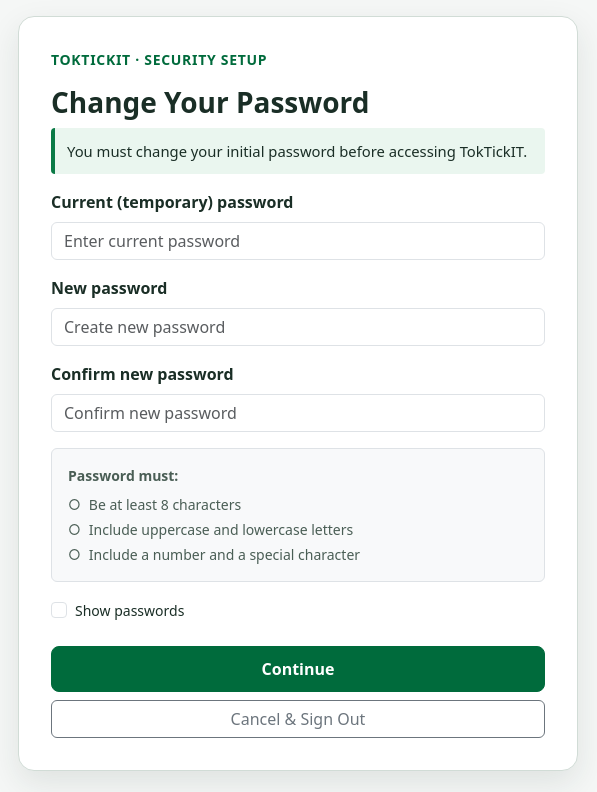
Scenario: ChangePassword Component (Work Item 3) › validates that new password meets complexity rules
The width and height of the screenshot is (597, 792).
Type "Initial123!" into the password field labelled "Current (temporary) password" at (298, 241), box [51, 222, 545, 260]
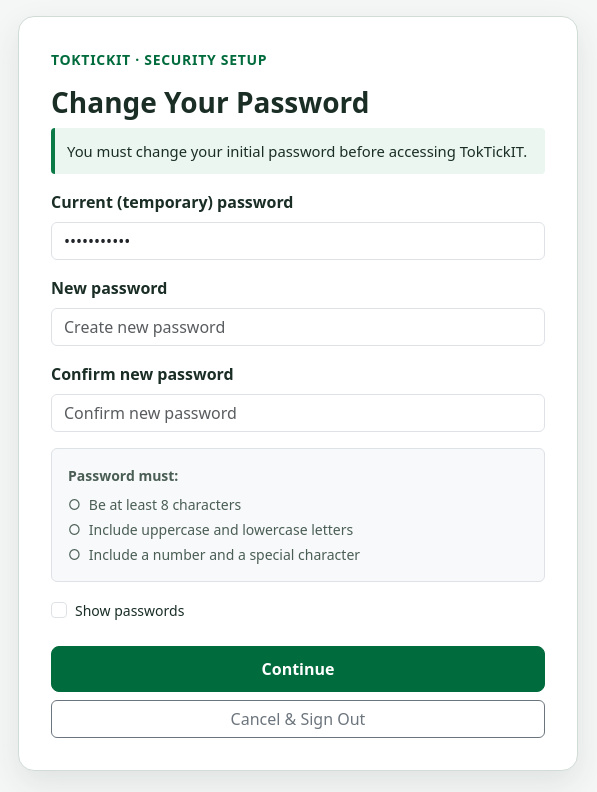
Type "weak" into the password field labelled "New password" at (298, 327), box [51, 308, 545, 346]
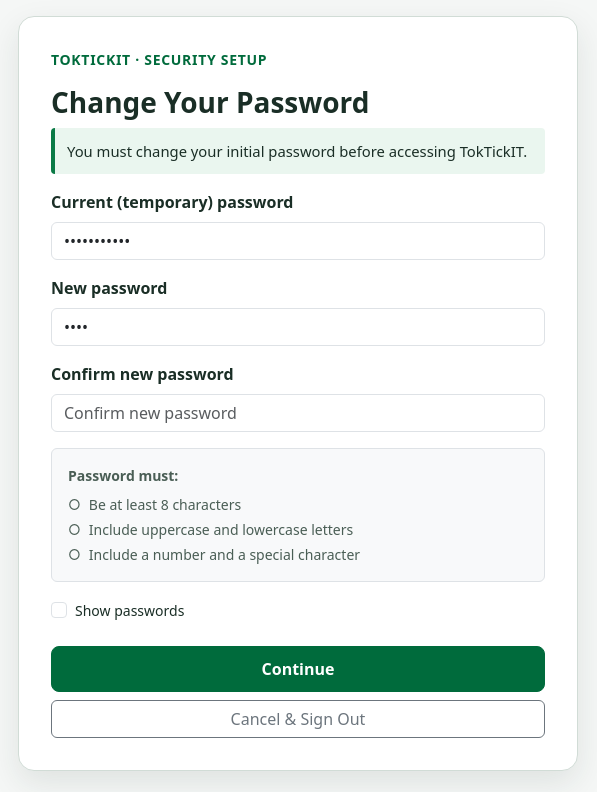
Type "weak" into the password field labelled "Confirm new password" at (298, 413), box [51, 394, 545, 432]
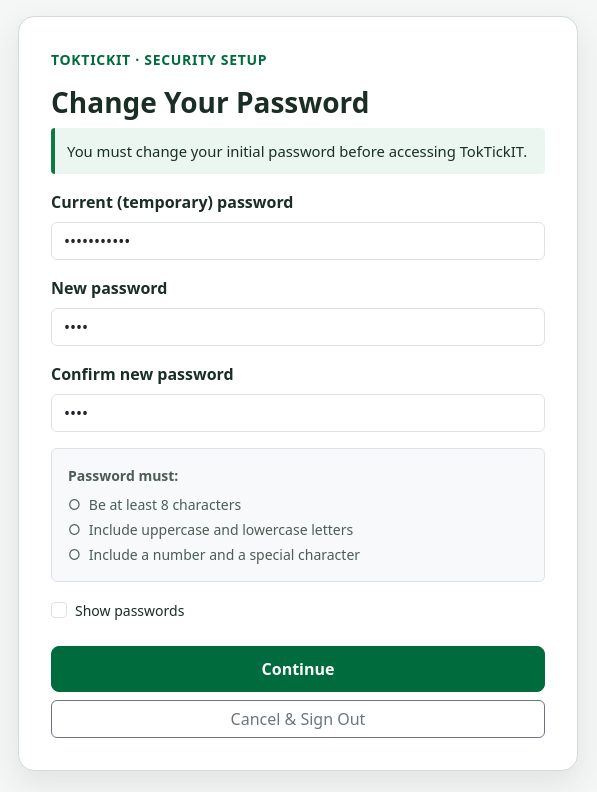
Click the button "Continue" at (298, 669), box [51, 646, 545, 692]
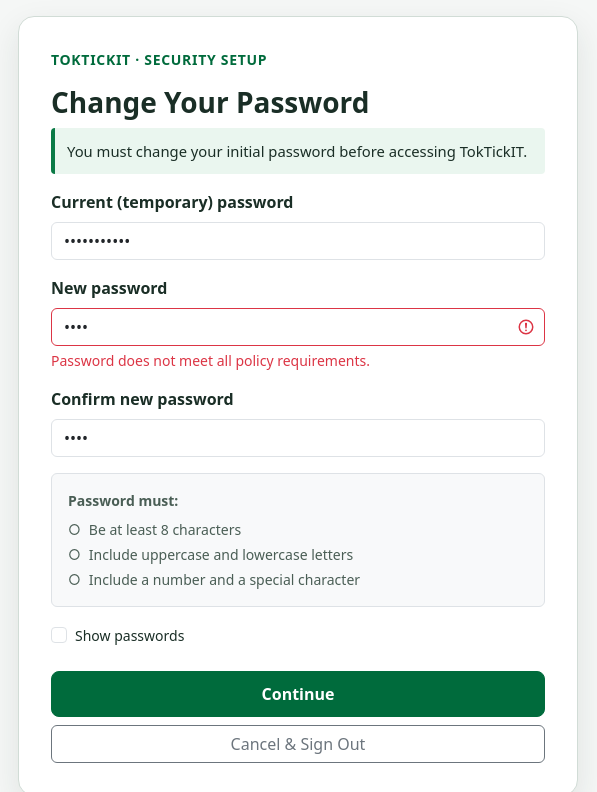
Expected: the text "Password does not meet all policy requirements." is shown, [51, 351, 370, 370]
